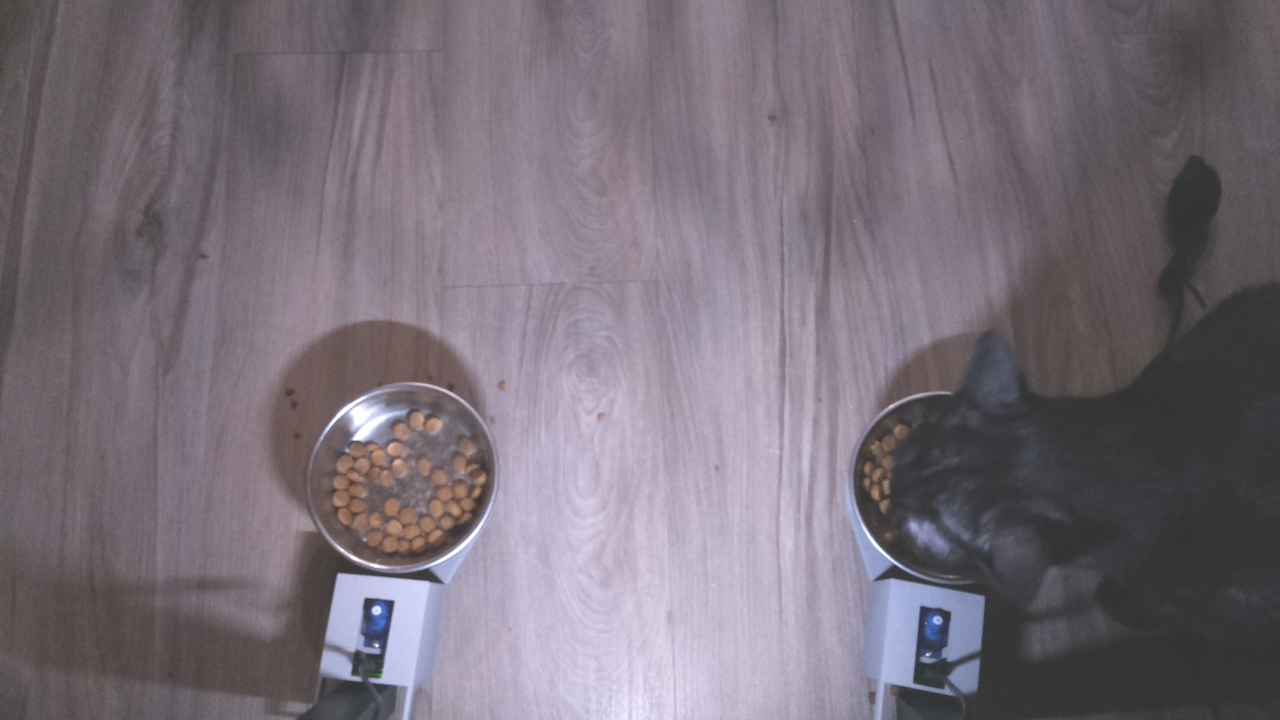open_bowl: (300, 378, 501, 572)
saki_eating: (851, 323, 1147, 605)
